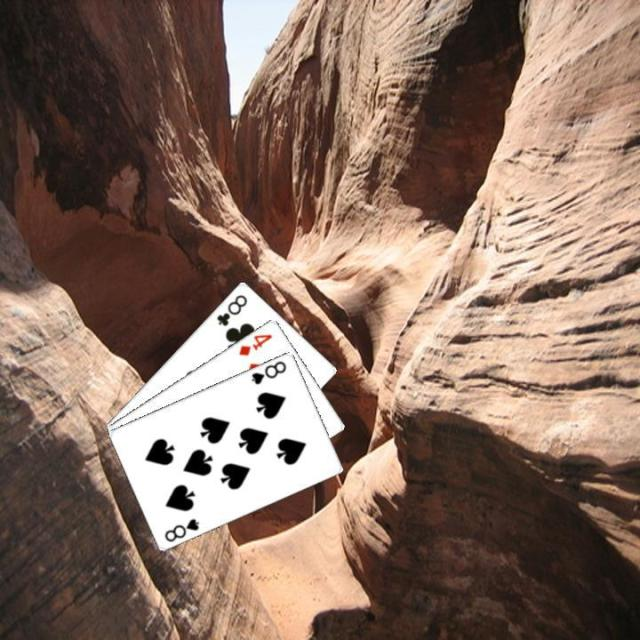4D: (234, 330, 274, 357)
8C: (212, 291, 249, 328)
8S: (248, 356, 288, 386), (161, 514, 201, 543)
